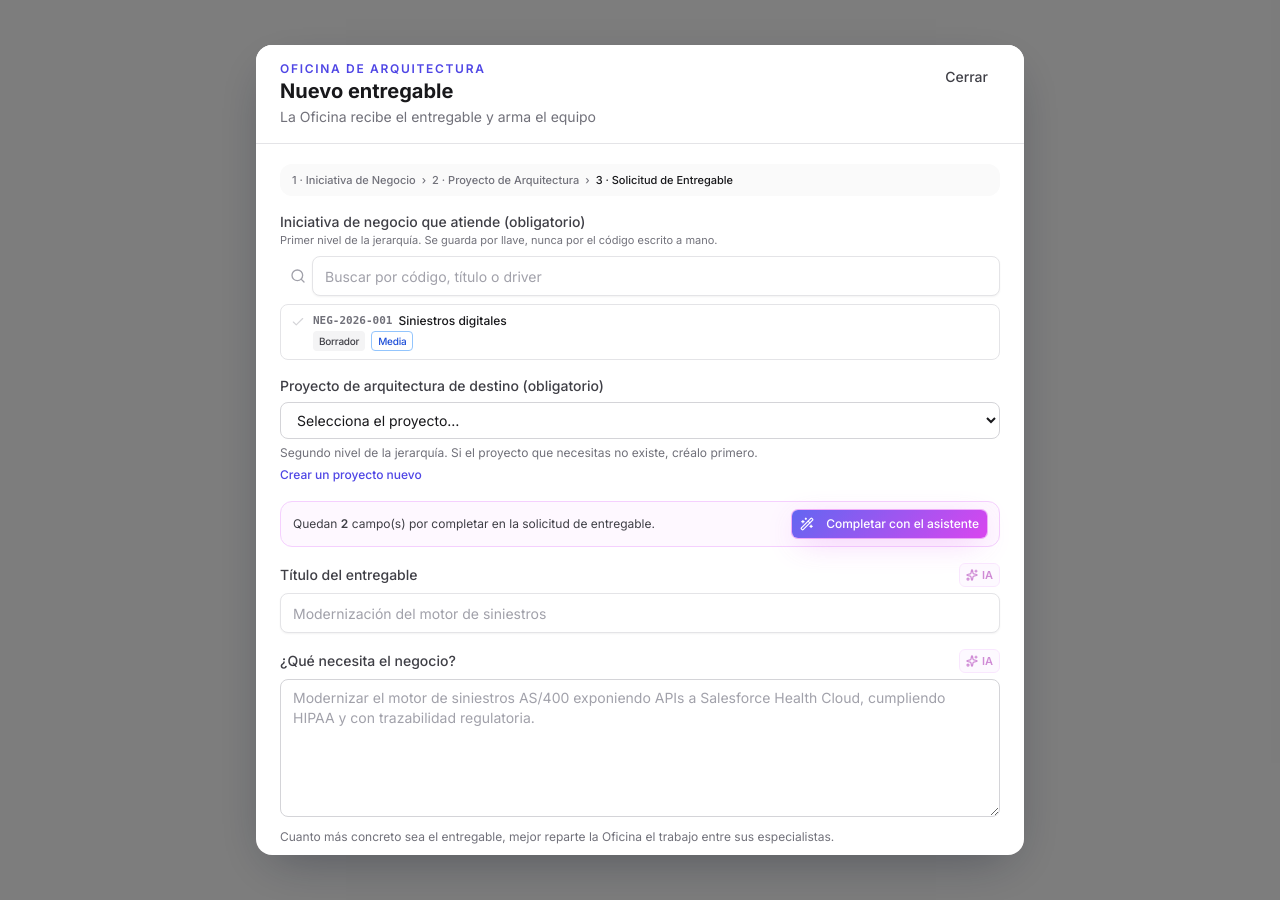
Scenario: EngagementIntakeWizard — la jerarquía es obligatoria › refuses to plan a deliverable that answers no initiative
Select "Núcleo de pólizas" in the dropdown labelled "Proyecto de arquitectura de destino (obligatorio)" at [640, 420], box x1=280 y1=402 x2=1000 y2=439
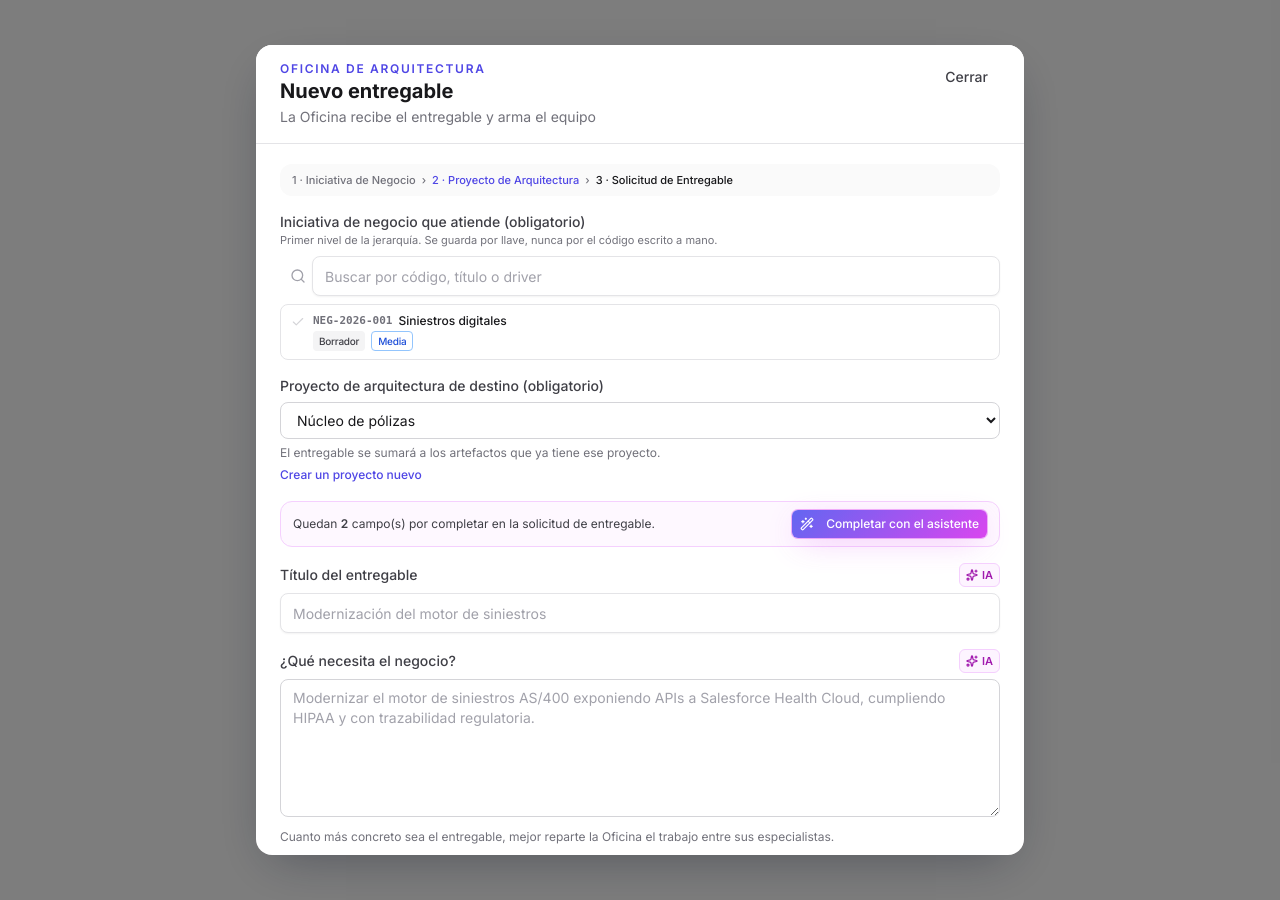
Type "Modernización de siniestros" into the field labelled "Título del entregable" at [640, 613], box x1=280 y1=593 x2=1000 y2=633
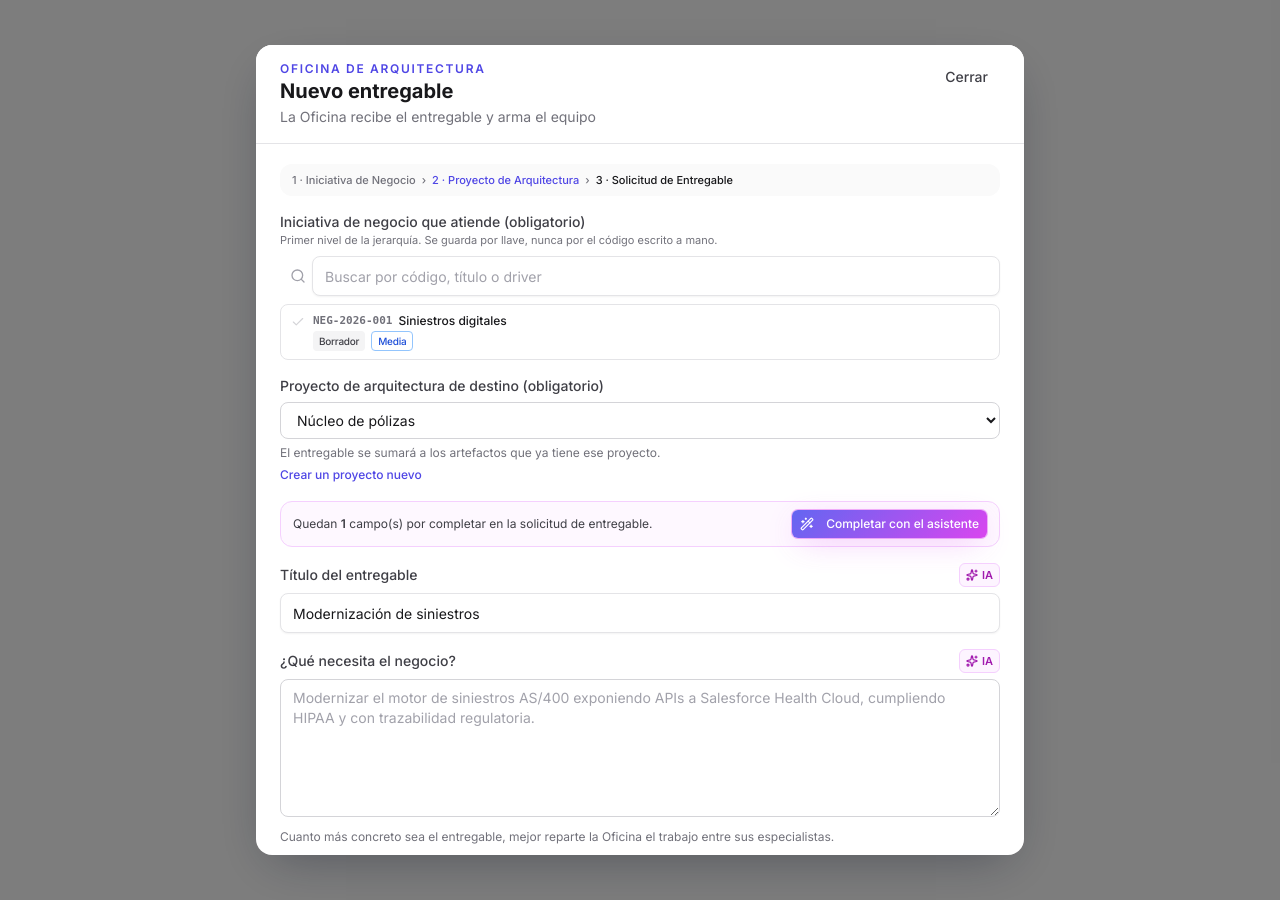
Replace the text in the text box labelled "¿Qué necesita el negocio?" with "Modernizar el motor de siniestros AS/400 exponiendo APIs a Salesforce, cumpliendo HIPAA." at [640, 748], box x1=280 y1=679 x2=1000 y2=817
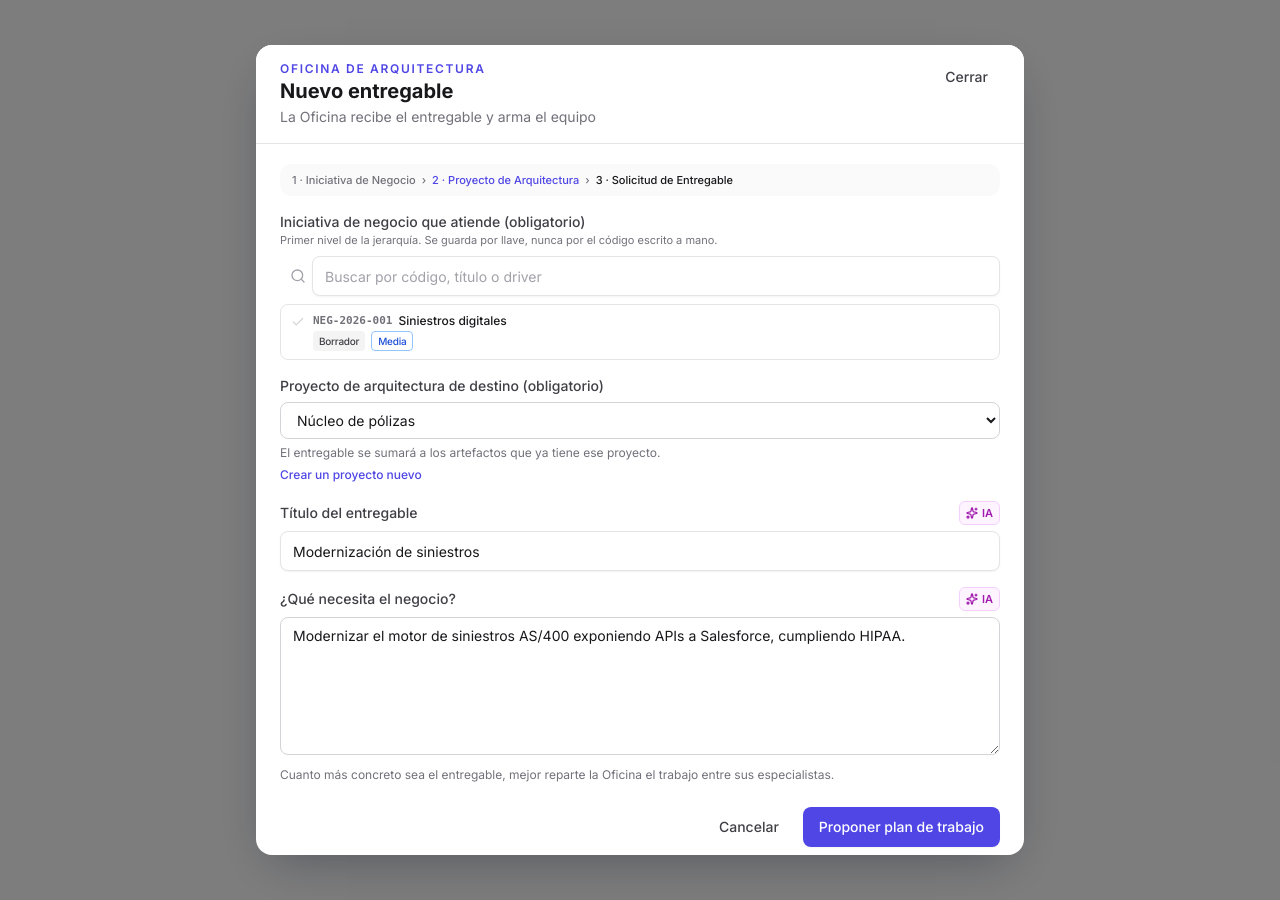
Click the button "Proponer plan de trabajo" at [901, 827], box x1=803 y1=807 x2=1000 y2=847
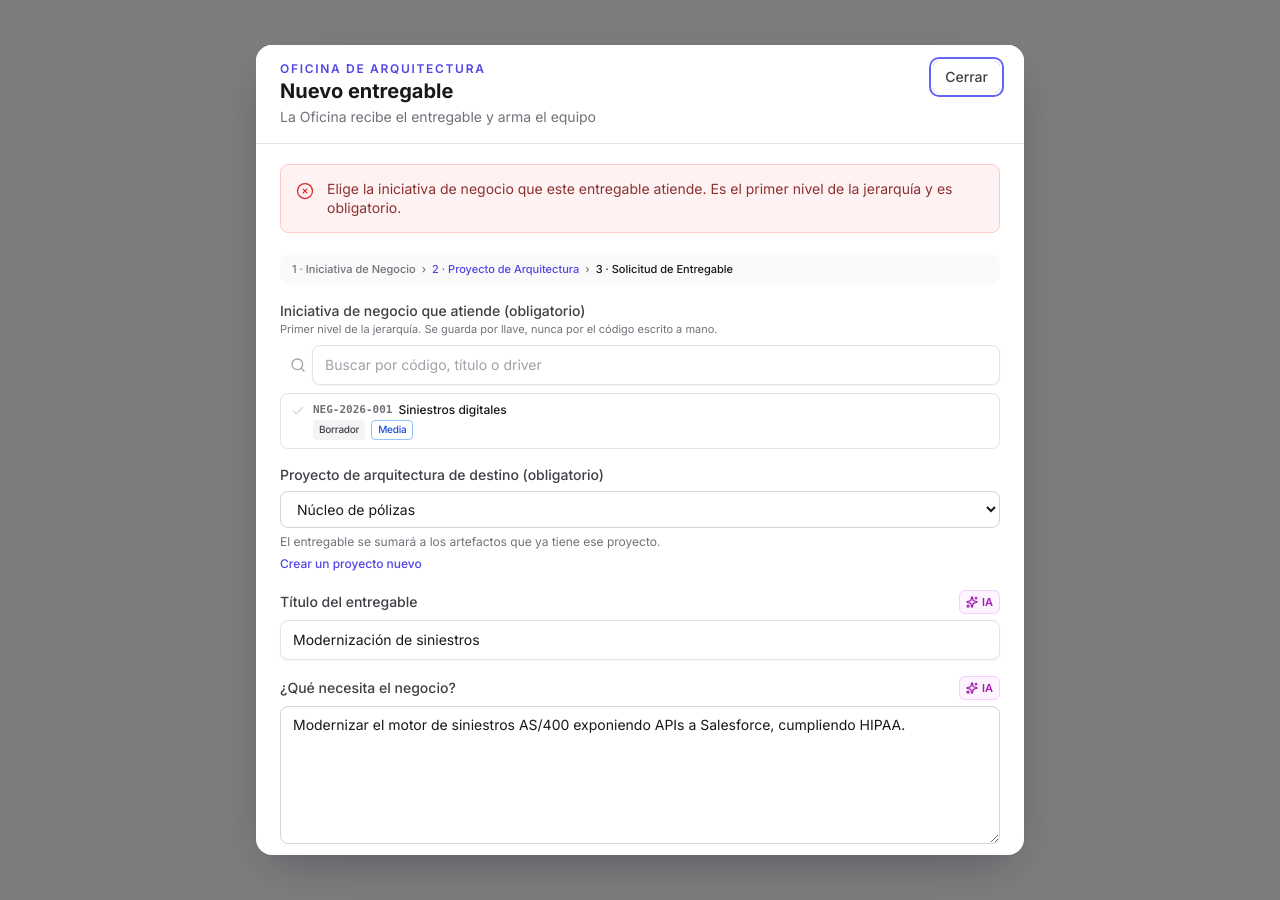
Expected: the text "iniciativa de negocio que este entregable atiende" is shown, x1=327 y1=180 x2=952 y2=216
